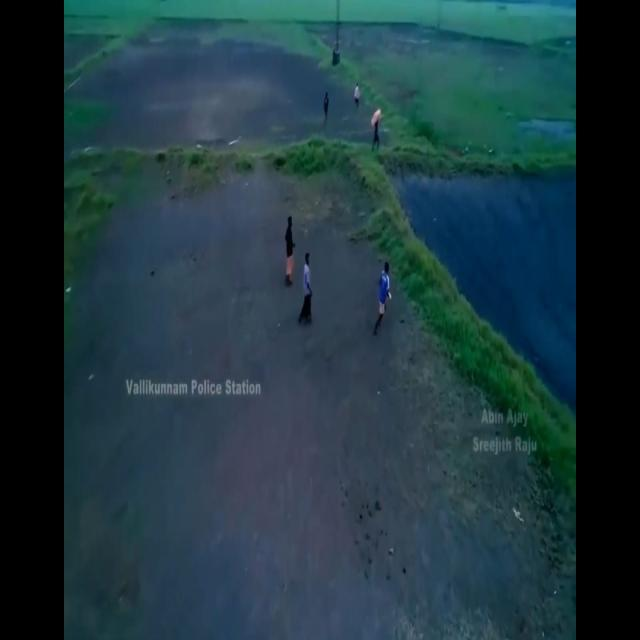humans: (372, 252, 398, 344), (299, 242, 319, 331), (284, 208, 300, 295), (370, 105, 386, 163), (322, 81, 333, 138), (354, 74, 362, 119)
